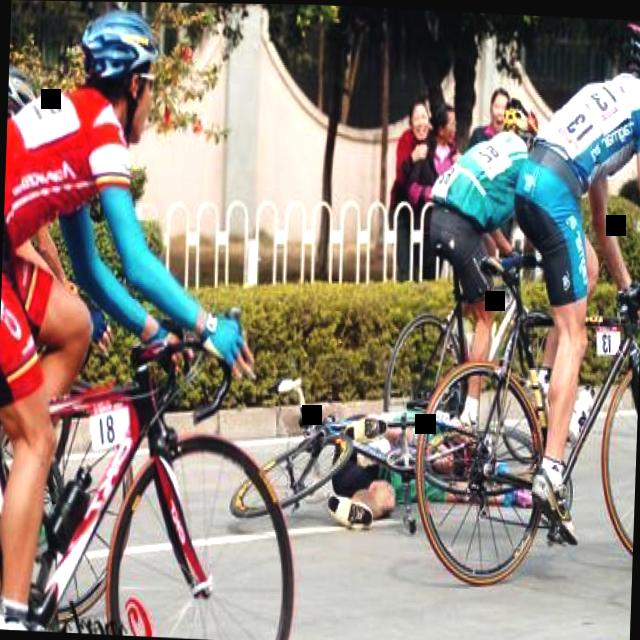Fall-Detected: (312, 368, 552, 550)
